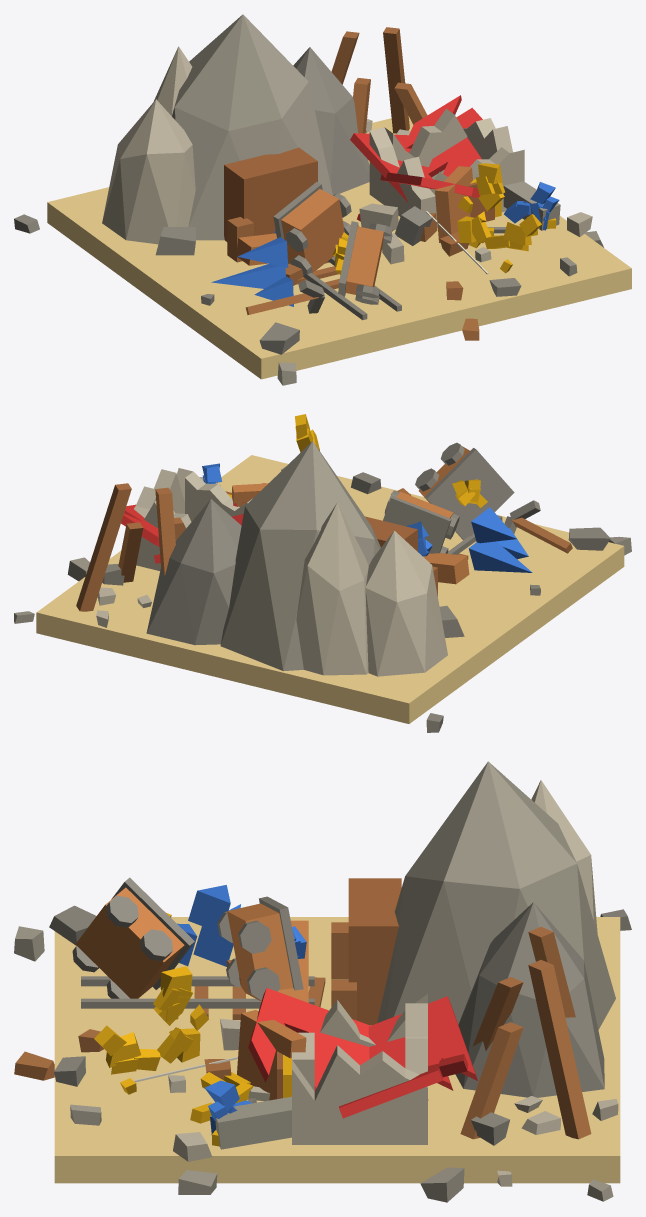
File: mine_t3_v1_dmg2.glb
The picture shows the model from 3 angles, top to bottom: view 1: azimuth 30°, elevation 25°; view 2: azimuth 150°, elevation 25°; view 3: azimuth 270°, elevation 25°; orthographic projection. The views are drawn at different scales.
Parts seen in each view (by area): view 1: mine_t3_v1_dmg2; view 2: mine_t3_v1_dmg2; view 3: mine_t3_v1_dmg2.
Boxes of the visible parts, bbox=[...] form: mine_t3_v1_dmg2: bbox=[14, 14, 631, 385]; mine_t3_v1_dmg2: bbox=[14, 414, 631, 732]; mine_t3_v1_dmg2: bbox=[14, 761, 631, 1202].
Bounding box in the file's own units: 0.884 × 0.4054 × 0.8195.
Materials: 1 (1 with a texture image).
